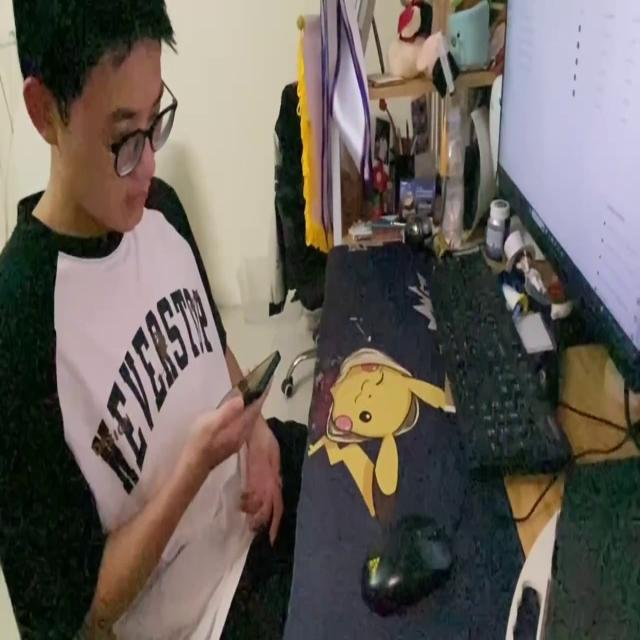laptop: (495, 4, 640, 402)
phone: (203, 344, 280, 412)
student: (0, 0, 298, 640)
